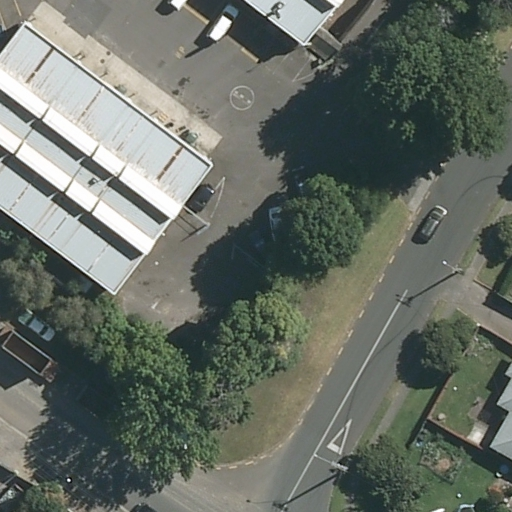DT: (314, 456, 349, 471), (441, 258, 465, 276)
